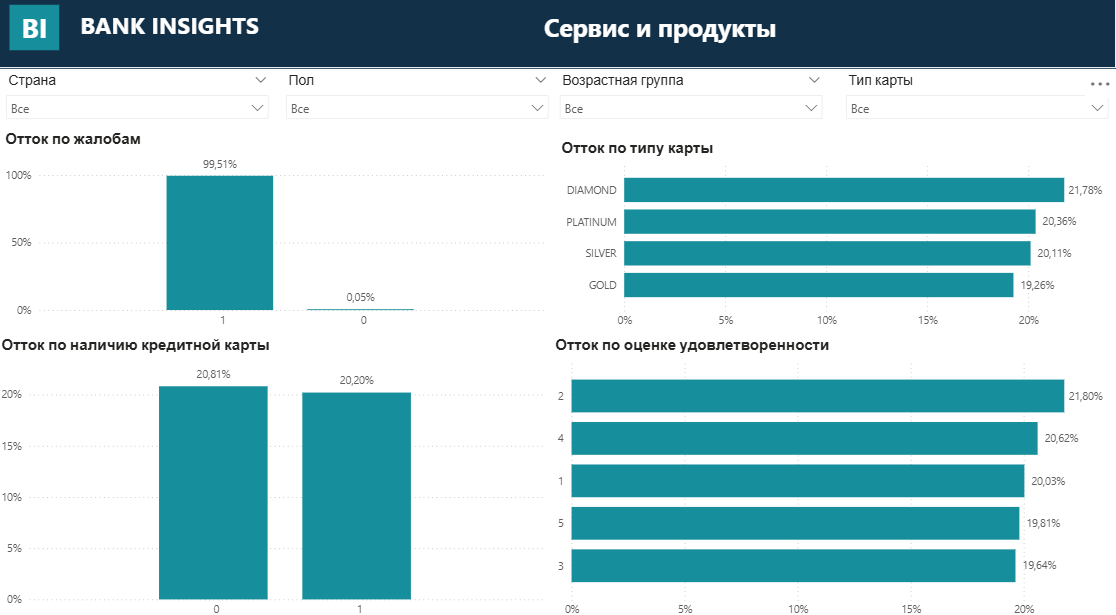

What the dashboard file says about the page in this screenshot:
{"tool":"powerbi","page":{"name":"Сервис и продукты","canvas":[1280,720],"ordinal":2},"visuals":[{"type":"slicer","fields":{"Values":["Customers.Geography"]},"box":[0,82.5,320,62.5],"z":0},{"type":"slicer","fields":{"Values":["Customers.Gender"]},"box":[320,82.5,320,62.5],"z":1000},{"type":"slicer","fields":{"Values":["Customers.AgeGroup"]},"box":[632.5,82.5,320,61.2],"z":2000},{"type":"slicer","fields":{"Values":["Customers.Card Type"]},"box":[960,82.5,320,61.2],"z":3000},{"type":"clusteredBarChart","title":"Отток по оценке удовлетворенности","fields":{"Category":["Customers.Satisfaction Score"],"Y":["Меры.Уровень оттока"]},"box":[632.5,388.8,647.5,331.2],"z":4000},{"type":"barChart","title":"Отток по типу карты","fields":{"Category":["Customers.Card Type"],"Y":["Меры.Уровень оттока"]},"box":[640,162.5,640,226.2],"z":5000},{"type":"clusteredColumnChart","title":"Отток по наличию кредитной карты","fields":{"Y":["Меры.Уровень оттока"],"Category":["Customers.HasCrCard"]},"box":[0,388.8,632.5,331.2],"z":6000},{"type":"clusteredColumnChart","title":"Отток по жалобам","fields":{"Y":["Меры.Уровень оттока"],"Category":["Customers.Complain"]},"box":[3.8,152.5,628.8,236.2],"z":7000},{"type":"textbox","box":[0,0,1279,83],"z":8000},{"type":"textbox","box":[90,10,310,54],"z":9000},{"type":"textbox","box":[620,12,635,50],"z":10000},{"type":"textbox","box":[14.6,10,56.9,52.3],"z":11000}]}

Visuals, with their boxes in screenshot pixels (x1, y1, x2, y2), scaled from the page's 1280x720 canvas onto the 1116x615 screenshot:
slicer - Customers.Geography: x1=0 y1=70 x2=279 y2=124
slicer - Customers.Gender: x1=279 y1=70 x2=558 y2=124
slicer - Customers.AgeGroup: x1=551 y1=70 x2=830 y2=123
slicer - Customers.Card Type: x1=837 y1=70 x2=1115 y2=123
"Отток по оценке удовлетворенности" clusteredBarChart: x1=551 y1=332 x2=1115 y2=614
"Отток по типу карты" barChart: x1=558 y1=139 x2=1115 y2=332
"Отток по наличию кредитной карты" clusteredColumnChart: x1=0 y1=332 x2=551 y2=614
"Отток по жалобам" clusteredColumnChart: x1=3 y1=130 x2=552 y2=332
textbox: x1=0 y1=0 x2=1115 y2=71
textbox: x1=78 y1=9 x2=349 y2=55
textbox: x1=541 y1=10 x2=1094 y2=53
textbox: x1=13 y1=9 x2=62 y2=53
